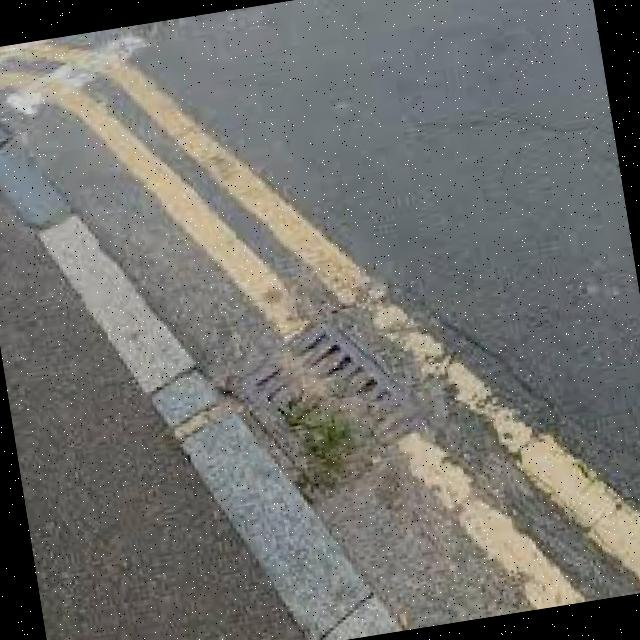curb: (1, 128, 397, 640)
